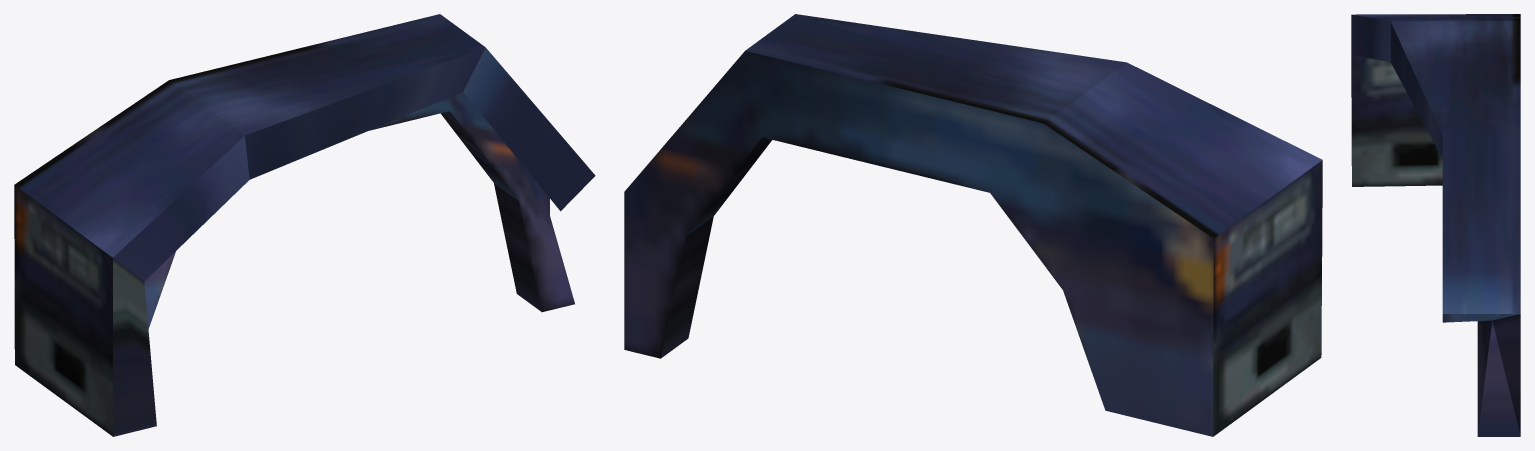
File: Shared - Ground Vehicles - Big Rig - Damage State 08 - CVBigRig_d08.glb
3 renders of one model, left to right at view 1: azimuth 30°, elevation 25°; view 2: azimuth 150°, elevation 25°; view 3: azimuth 270°, elevation 25°, orthographic. The views are drawn at different scales.
Parts seen in each view (by area): view 1: CVBIGRIG_D08; view 2: CVBIGRIG_D08; view 3: CVBIGRIG_D08.
Boxes of the visible parts, x1,y1,x2,y2 form: CVBIGRIG_D08: (14, 14, 595, 436); CVBIGRIG_D08: (624, 14, 1322, 436); CVBIGRIG_D08: (1351, 14, 1520, 436).
Bounding box in the file's own units: 7.87 × 4.19 × 2.51.
1 material, 1 textured.
